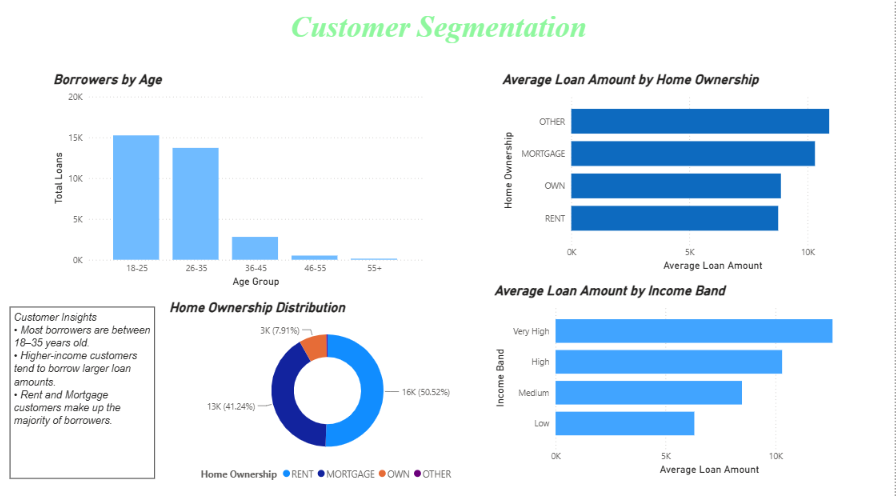

Layout of this report page (visuals, bound fields, positions):
{"tool":"powerbi","page":{"name":"Page 3","canvas":[1280,720],"ordinal":2},"visuals":[{"type":"clusteredColumnChart","title":"Borrowers by Age","fields":{"Category":["credit_risk_cleaned.age_group"],"Y":["credit_risk_cleaned.Total Loans"]},"box":[72.5,107.5,537.5,312.5],"z":0},{"type":"donutChart","title":"Home Ownership Distribution","fields":{"Category":["credit_risk_cleaned.person_home_ownership"],"Y":["credit_risk_cleaned.Total Loans"]},"box":[238.8,432.5,462.5,267.5],"z":1000},{"type":"clusteredBarChart","title":"Average Loan Amount by Income Band","fields":{"Category":["credit_risk_cleaned.income_band"],"Y":["credit_risk_cleaned.Average Loan Amount"]},"box":[702.5,408.8,547.5,280],"z":2000},{"type":"textbox","box":[410.9,12.2,446.3,75.8],"z":3000},{"type":"clusteredBarChart","fields":{"Category":["credit_risk_cleaned.person_home_ownership"],"Y":["credit_risk_cleaned.Average Loan Amount"]},"box":[713.8,107.5,523.8,290],"z":4000},{"type":"textbox","box":[15.7,442.9,207.1,245.7],"z":5000}]}

Visuals, with their boxes in screenshot pixels (x1, y1, x2, y2), scaled from the page's 1280x720 canvas onto the 896x496 screenshot:
"Borrowers by Age" clusteredColumnChart: <box>51,74,427,289</box>
"Home Ownership Distribution" donutChart: <box>167,298,491,482</box>
"Average Loan Amount by Income Band" clusteredBarChart: <box>492,282,875,475</box>
textbox: <box>288,8,600,61</box>
clusteredBarChart - credit_risk_cleaned.person_home_ownership x credit_risk_cleaned.Average Loan Amount: <box>500,74,866,274</box>
textbox: <box>11,305,156,474</box>
